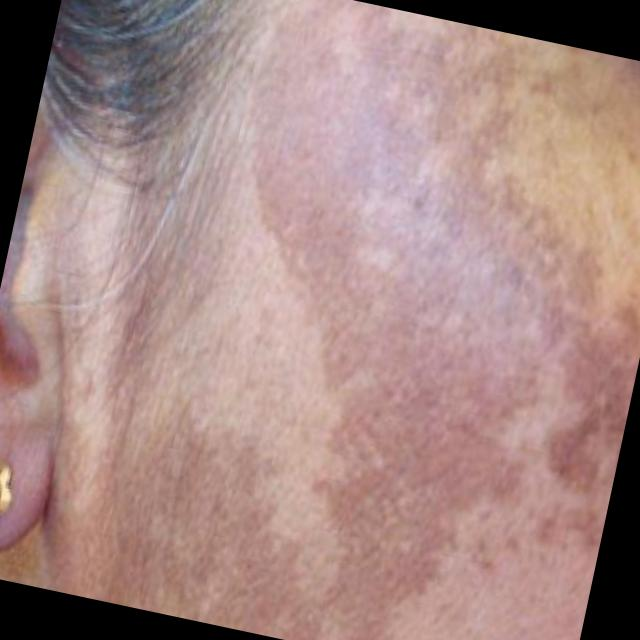melasma: (89, 0, 640, 640)
